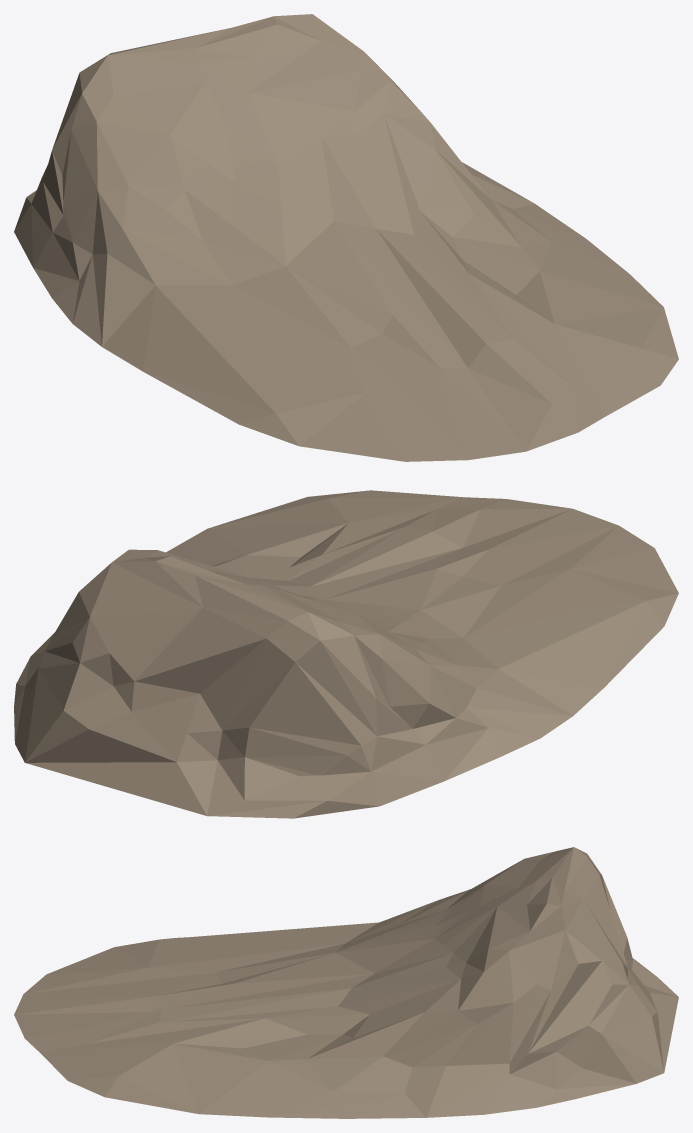
File: SM_Prop_Ramp_Dirt_01.fbx
3 renders of one model, top to bottom at view 1: azimuth 30°, elevation 25°; view 2: azimuth 150°, elevation 25°; view 3: azimuth 270°, elevation 25°, orthographic. The views are drawn at different scales.
Parts seen in each view (by area): view 1: SM_Prop_Ramp_Dirt_01; view 2: SM_Prop_Ramp_Dirt_01; view 3: SM_Prop_Ramp_Dirt_01.
Boxes of the visible parts, x1,y1,x2,y2 form: SM_Prop_Ramp_Dirt_01: [14, 14, 678, 461]; SM_Prop_Ramp_Dirt_01: [14, 490, 678, 818]; SM_Prop_Ramp_Dirt_01: [14, 847, 678, 1118].
Bounding box in the file's own units: 982 × 340 × 1449.
